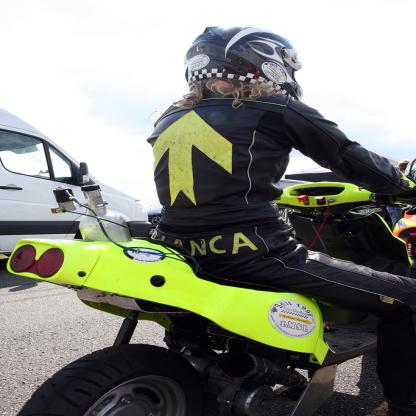Helmet: (181, 28, 312, 104)
